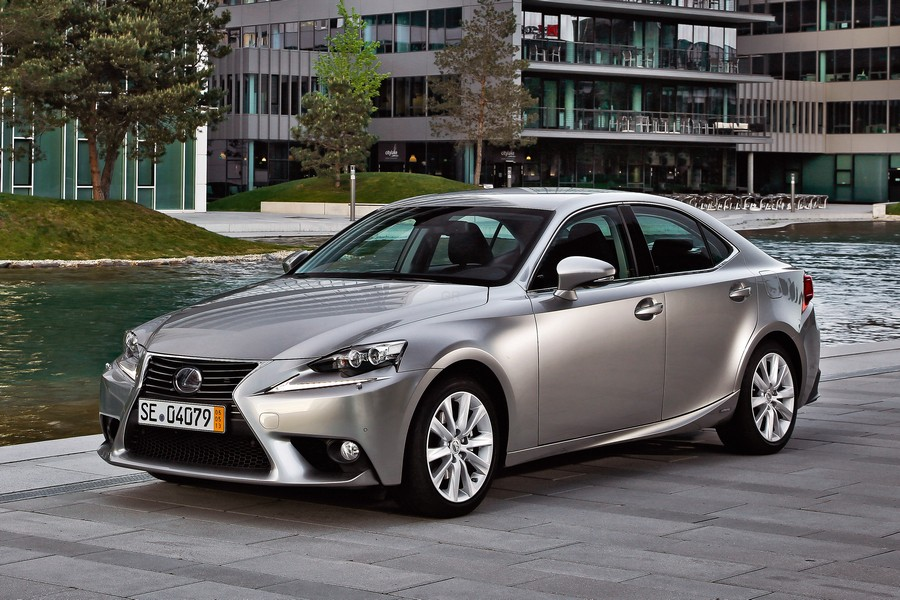licence: (139, 397, 229, 437)
